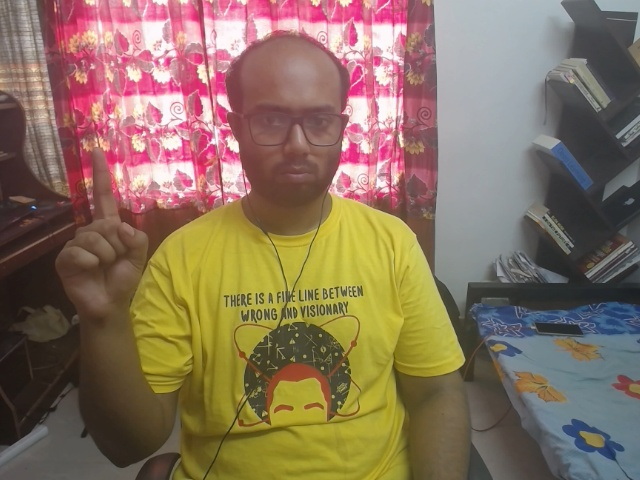one: (40, 138, 167, 310)
